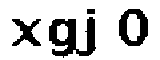0: (117, 6, 152, 50)
g: (45, 12, 79, 58)
j: (77, 7, 107, 58)
x: (9, 18, 44, 49)
